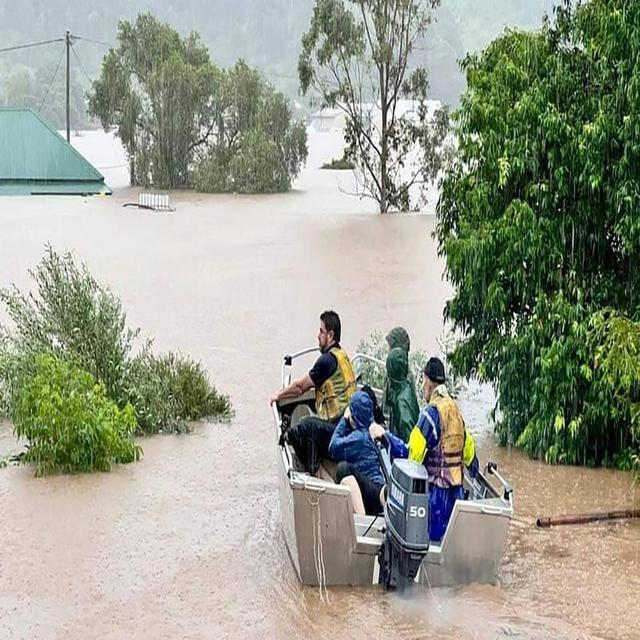Person-RiskLevel3: (268, 299, 478, 518)
